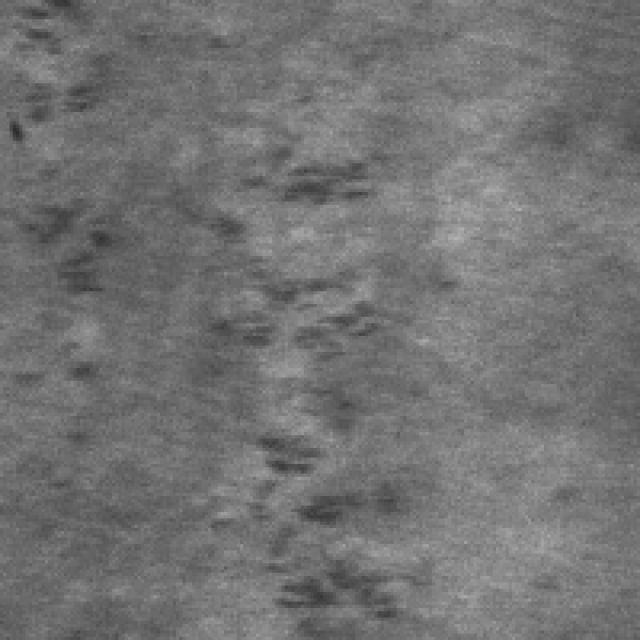rolled-in_scale: (212, 138, 422, 636), (29, 147, 118, 416), (7, 0, 135, 134)
